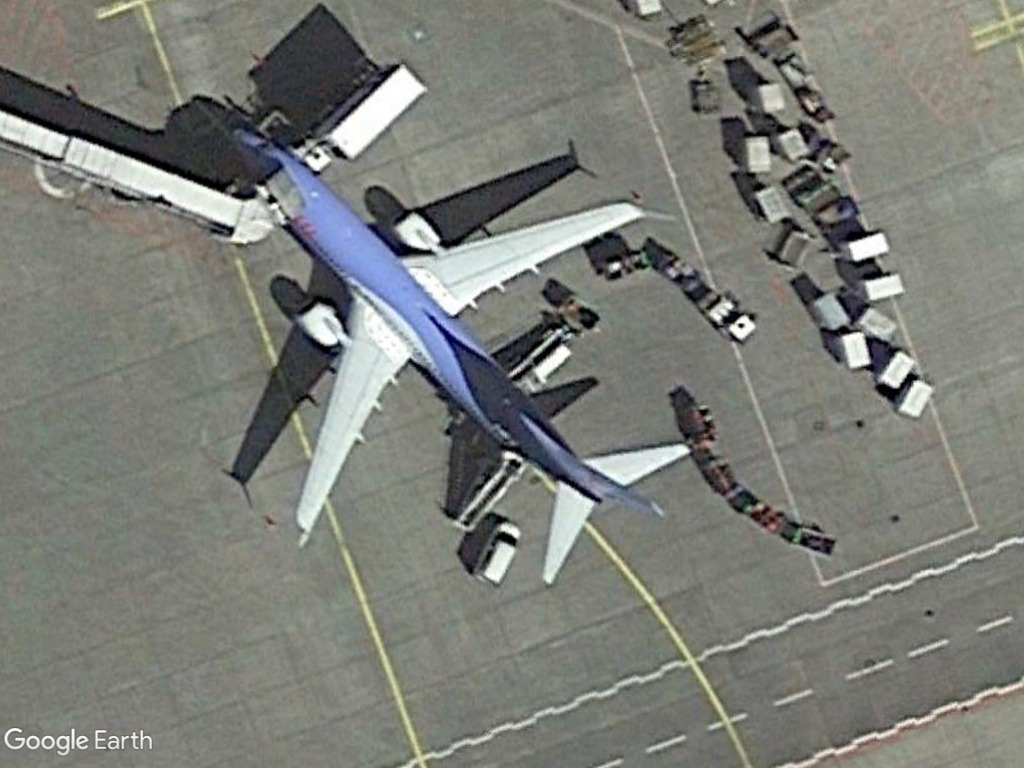airliner: (223, 122, 698, 598)
stairtruck: (449, 448, 528, 535)
